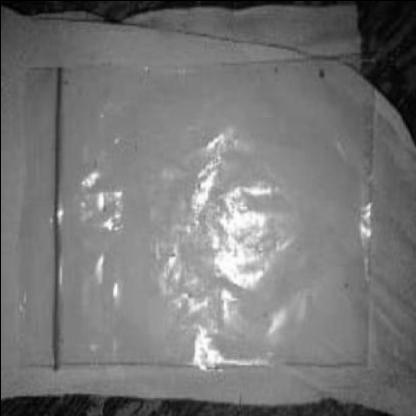objects: (0, 41, 380, 379)
